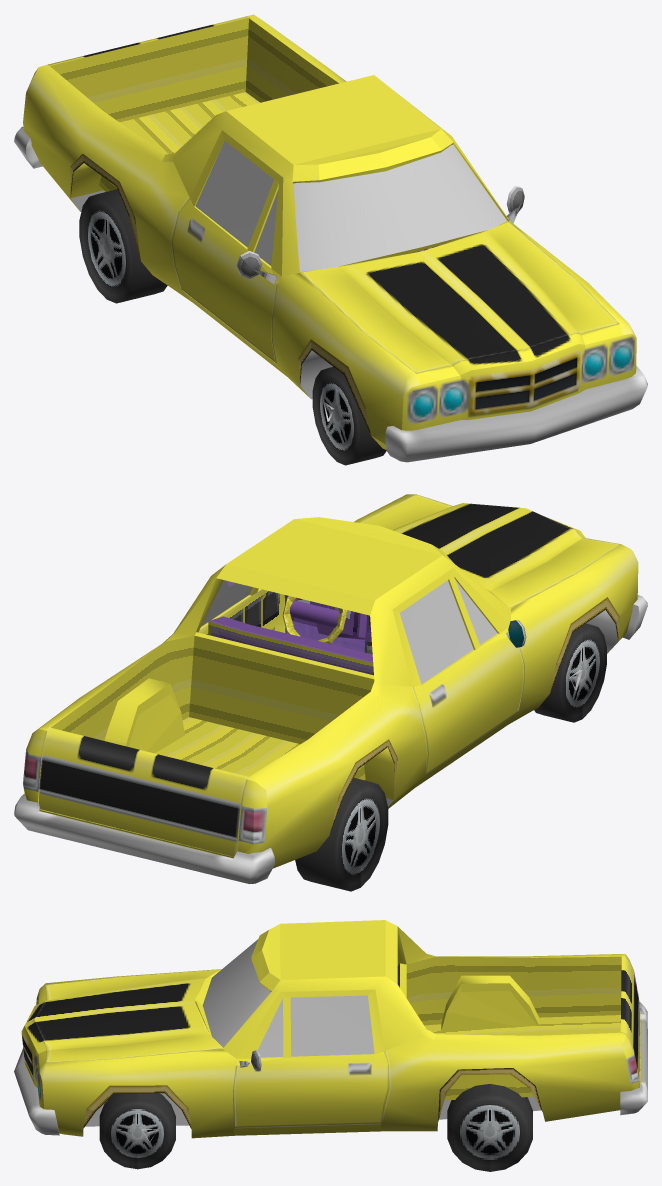
The picture shows the model from 3 angles, top to bottom: view 1: azimuth 30°, elevation 25°; view 2: azimuth 150°, elevation 25°; view 3: azimuth 270°, elevation 25°; orthographic projection. The views are drawn at different scales.
Visible parts, largest first — view 1: ElCarroLoco; view 2: ElCarroLoco; view 3: ElCarroLoco.
Boxes of the visible parts, <box> form: ElCarroLoco: <box>14,14,647,465</box>; ElCarroLoco: <box>14,494,647,891</box>; ElCarroLoco: <box>14,920,647,1171</box>.
Bounding box in the file's own units: 2.49 × 1.86 × 6.09.
